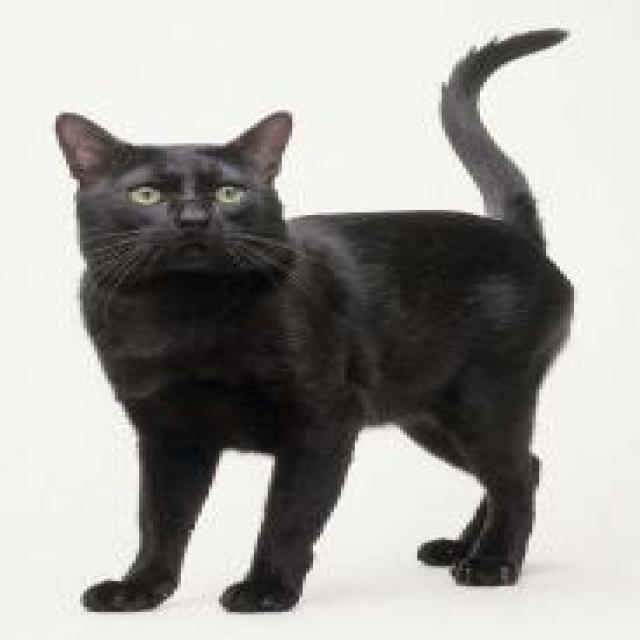Bombay: (49, 108, 285, 272)
